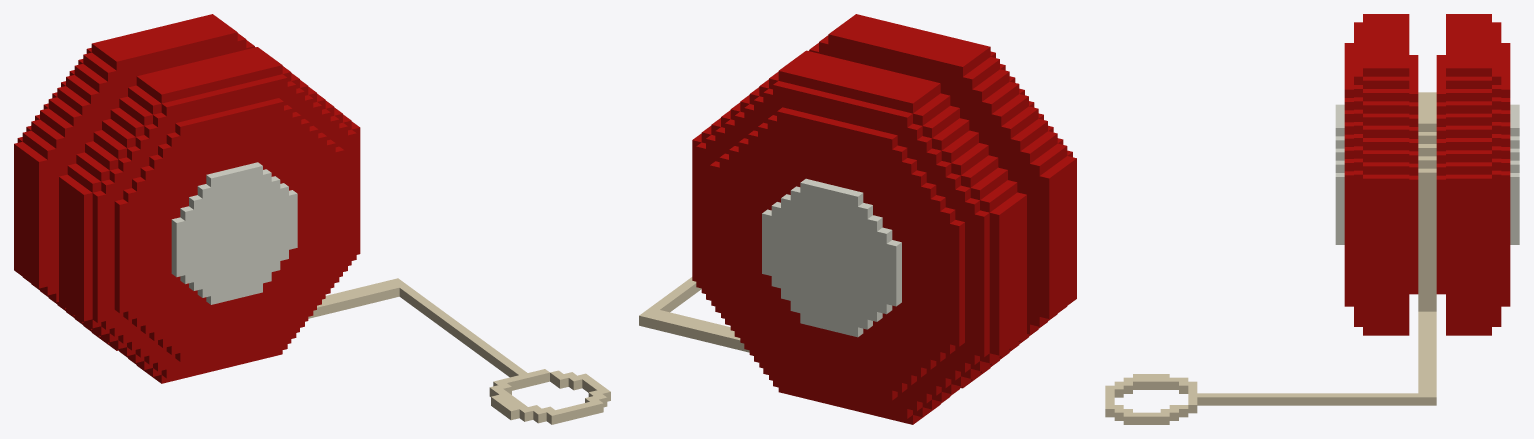
The model's file is yoyo.glb.
The picture shows the model from 3 angles, left to right: view 1: azimuth 30°, elevation 25°; view 2: azimuth 150°, elevation 25°; view 3: azimuth 270°, elevation 25°; orthographic projection. The views are drawn at different scales.
Parts seen in each view (by area): view 1: yoyo:compound; view 2: yoyo:compound; view 3: yoyo:compound.
Boxes of the visible parts, left/top/right/bottom form: yoyo:compound: left=14, top=14, right=610, bottom=424; yoyo:compound: left=639, top=14, right=1076, bottom=424; yoyo:compound: left=1105, top=14, right=1519, bottom=424.
Bounding box in the file's own units: 0.092 × 0.064 × 0.09.
